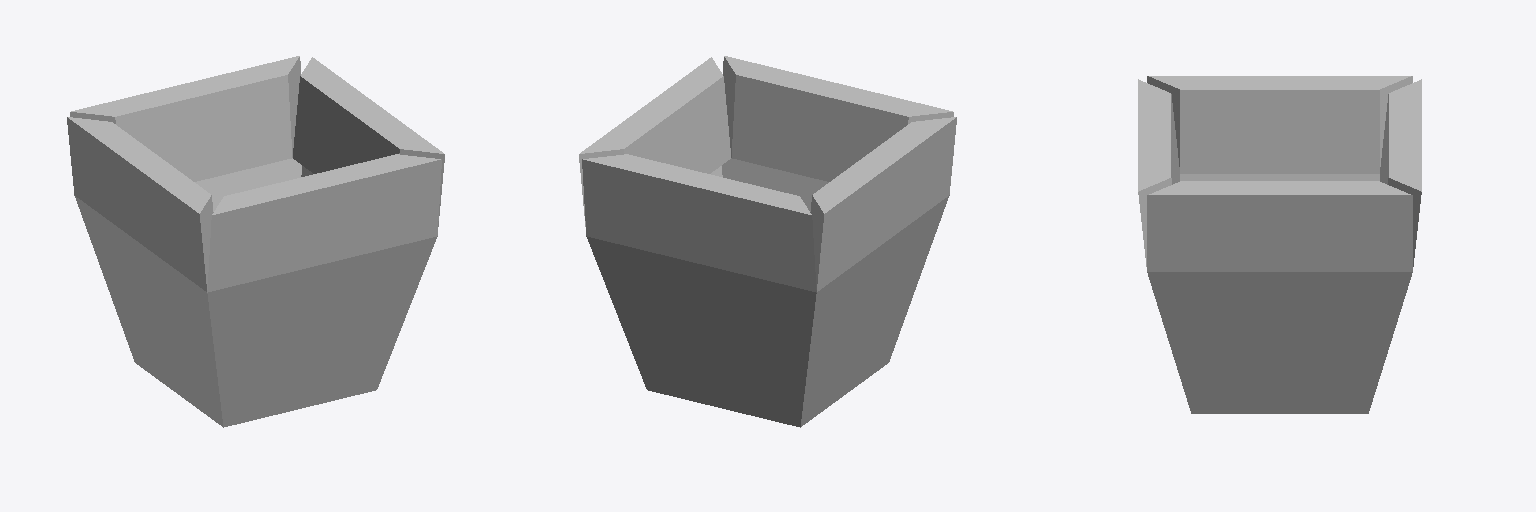
File: screwbottom.obj
3 renders of one model, left to right at view 1: azimuth 30°, elevation 25°; view 2: azimuth 150°, elevation 25°; view 3: azimuth 270°, elevation 25°, orthographic.
Parts seen in each view (by area): view 1: Cube; view 2: Cube; view 3: Cube.
Part boxes in pixels (bbox=[...]): Cube: bbox=[67, 56, 444, 427]; Cube: bbox=[579, 56, 956, 427]; Cube: bbox=[1138, 76, 1421, 413].
Size of the model in its own units: 0.32 by 0.3 by 0.32.